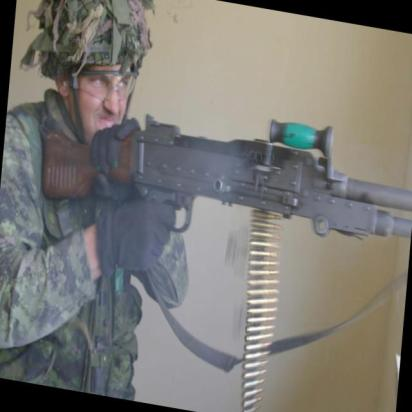Gun: (49, 92, 412, 272)
